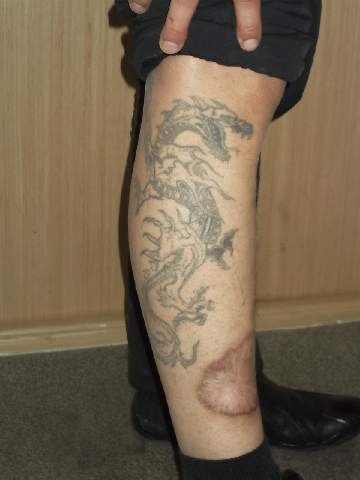tatu6_drakon: (118, 92, 257, 369)
